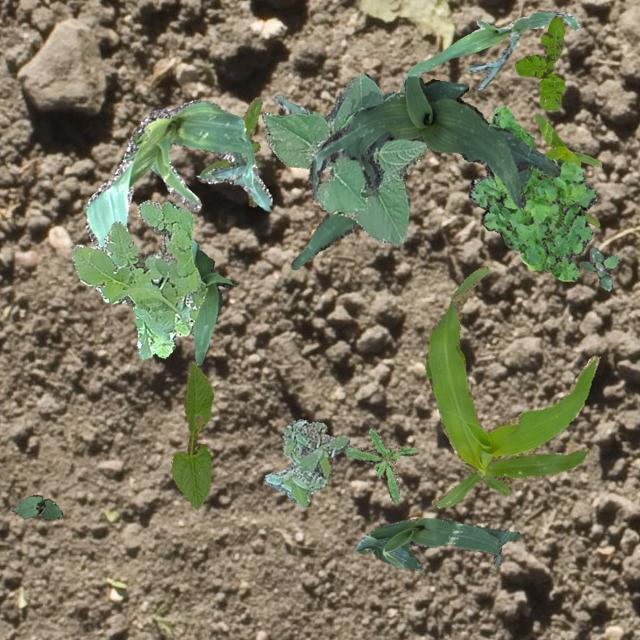crop: (424, 266, 598, 507), (307, 76, 558, 208), (260, 72, 427, 244), (84, 98, 270, 245), (398, 9, 578, 94), (274, 94, 358, 268), (353, 516, 520, 570), (532, 112, 600, 226), (170, 362, 212, 508), (190, 238, 234, 364), (9, 494, 62, 518)
weed: (468, 104, 594, 280), (70, 198, 206, 358), (262, 418, 348, 504), (198, 96, 260, 206), (342, 428, 416, 502), (514, 15, 564, 110), (578, 247, 618, 290)
